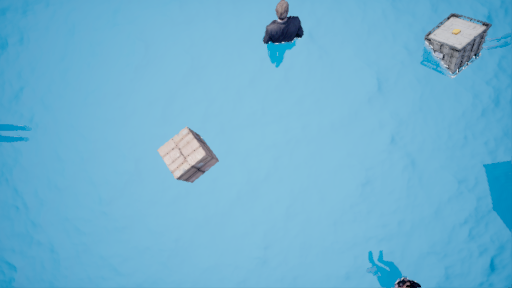person: (264, 4, 313, 73)
